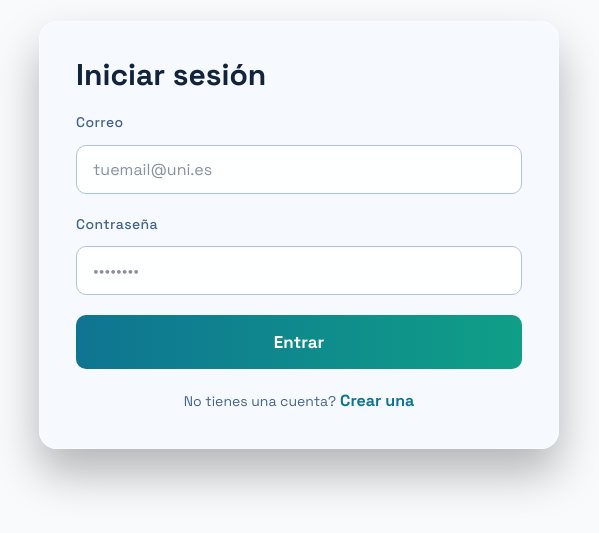
Login form validation › shows required field error on login submit
Click the button "Entrar": point(299, 342) [76,315,522,369]
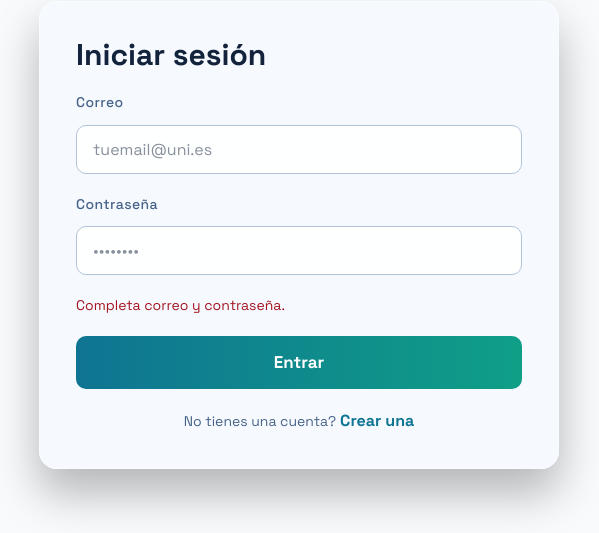
expect the text "Completa correo y contraseña." is shown: met, box [76,296,285,314]
